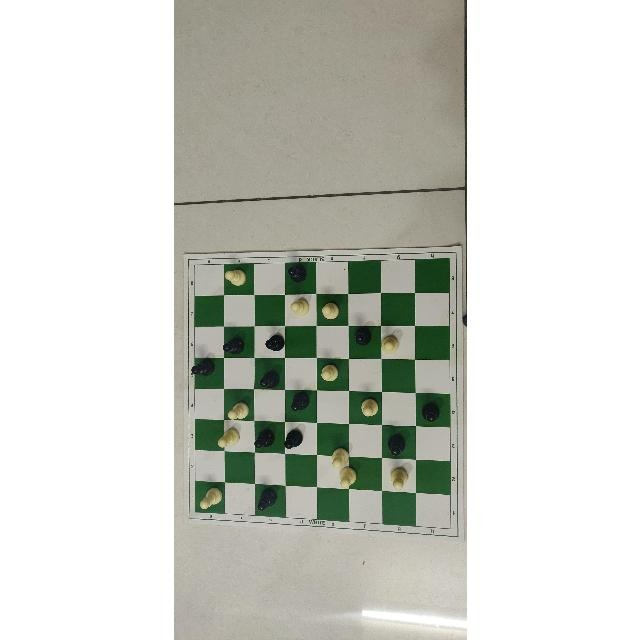black-pawn: (418, 394, 446, 425), (254, 484, 280, 517), (251, 421, 277, 451), (382, 426, 407, 457), (284, 391, 312, 418), (254, 358, 280, 387), (221, 326, 246, 356), (285, 263, 311, 291), (260, 327, 286, 355), (348, 327, 374, 355), (282, 422, 306, 452), (191, 357, 217, 384)
white-pawn: (193, 481, 223, 511), (351, 393, 380, 424), (318, 358, 348, 387), (379, 326, 405, 358), (385, 460, 411, 492), (222, 266, 250, 294), (284, 295, 313, 322), (224, 390, 250, 420), (215, 421, 241, 451), (317, 294, 345, 321), (338, 464, 358, 491), (328, 444, 350, 468)
